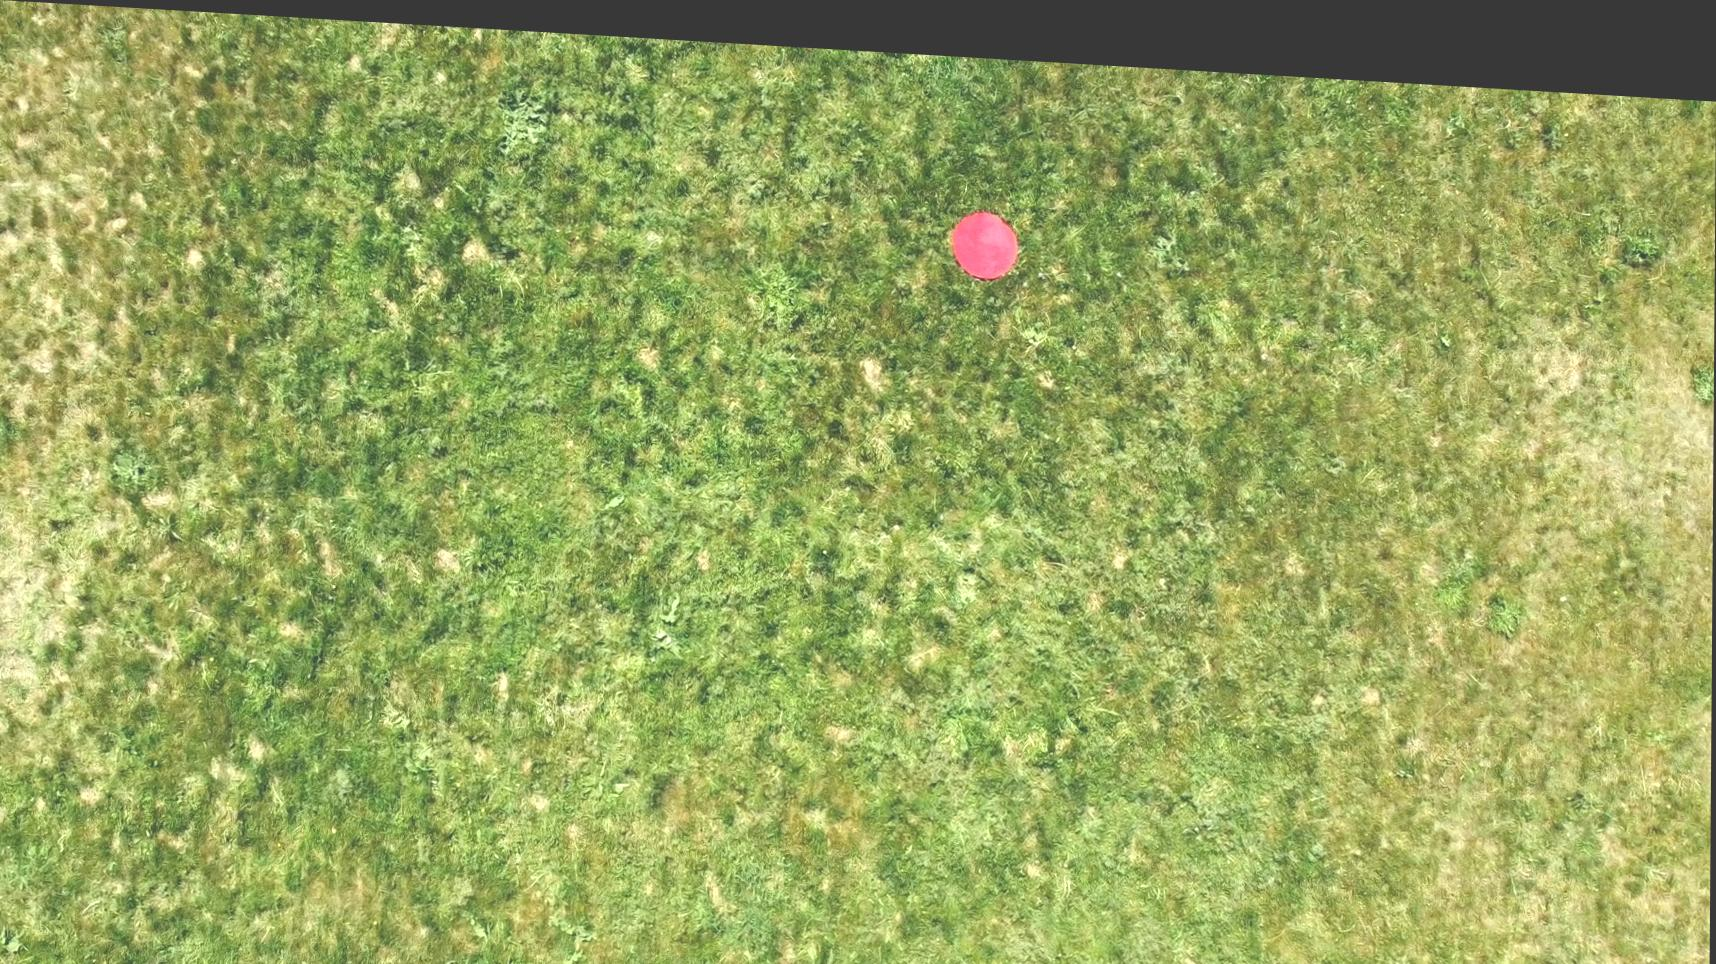Red: (952, 197, 1019, 271)
